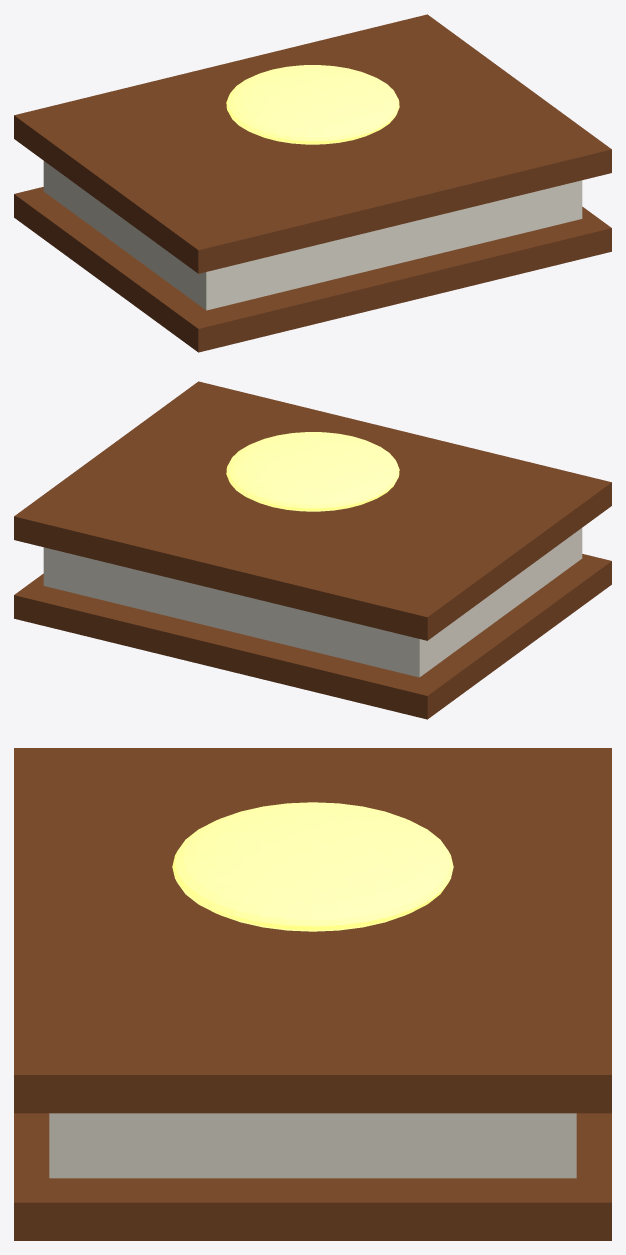
Rendered from magic_book.glb.
3 renders of one model, top to bottom at view 1: azimuth 30°, elevation 25°; view 2: azimuth 150°, elevation 25°; view 3: azimuth 270°, elevation 25°, orthographic. The views are drawn at different scales.
Parts seen in each view (by area): view 1: Cube, Cube.002, Cube.001, Sphere; view 2: Cube, Cube.002, Cube.001, Sphere; view 3: Cube, Cube.002, Cube.001, Sphere.
Boxes of the visible parts, x1,y1,x2,y2 form: Cube: (14,14,611,273); Cube.002: (14,187,611,352); Cube.001: (43,161,582,310); Sphere: (226,65,399,144); Cube: (14,381,611,640); Cube.002: (14,554,611,719); Cube.001: (43,528,582,677); Sphere: (226,432,399,511); Cube: (14,748,611,1113); Cube.002: (14,1113,611,1240); Cube.001: (49,1113,576,1178); Sphere: (172,802,453,931).
Size of the model in its own units: 1 by 0.3364 by 0.7727.
